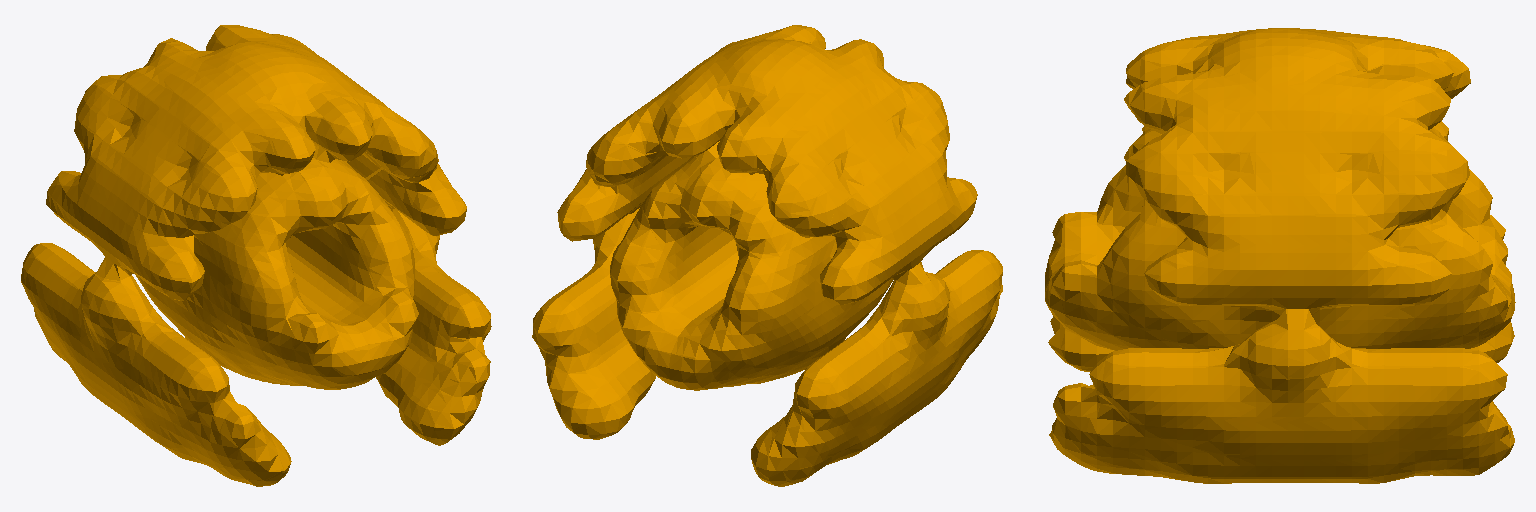
URDF robot description (object):
<?xml version="1.0"?>
        <robot name="object">
          <link name="object">
            <visual>
              <origin xyz="0.0 0.0 0.0"/>
              <geometry>
                <mesh filename="A5.stl" scale="1.00 1.00 1.00"/>
              </geometry>
            </visual>
            <collision>
              <origin xyz="0.0 0.0 0.0"/>
              <geometry>
                <mesh filename="A5.stl" scale="1.00 1.00 1.00"/>
              </geometry>
            </collision>
          </link>
        </robot>

--- What the picture shows (computed from the rendered views, not written in the file) ---
Views: 3 orthographic renders of the robot side by side, from view 1: azimuth 30°, elevation 25°; view 2: azimuth 150°, elevation 25°; view 3: azimuth 270°, elevation 25°.
Robot: object — 1 links, 0 joints (none); root link object; default pose: every joint at zero.
Links seen in each view (by area): view 1: object; view 2: object; view 3: object.
Link boxes in pixels (x1,y1,x2,y2): object: (21,25,491,486); object: (532,25,1002,486); object: (1045,28,1515,483).
Bounding box of the posed robot: 0.0934 × 0.1 × 0.0898 m (x, y, z).
Meshes: 1 distinct files referenced, 1 mesh visuals loaded (1 binary STL).